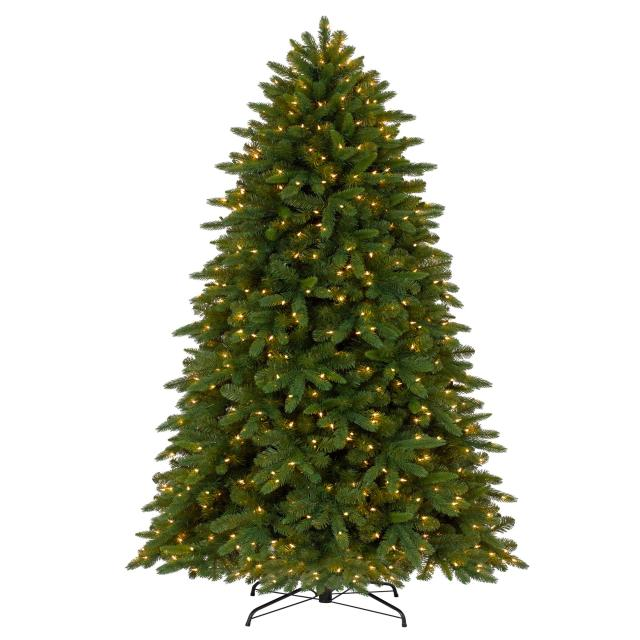Christmas-tree: (150, 12, 530, 580)
